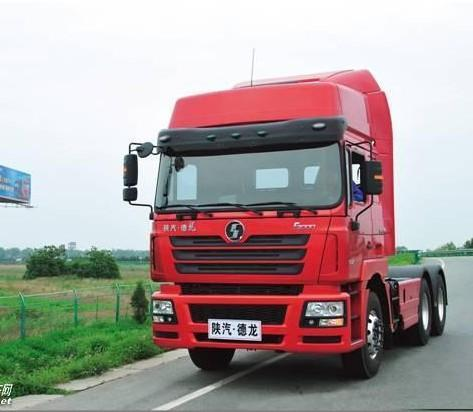truck: (126, 78, 403, 373)
